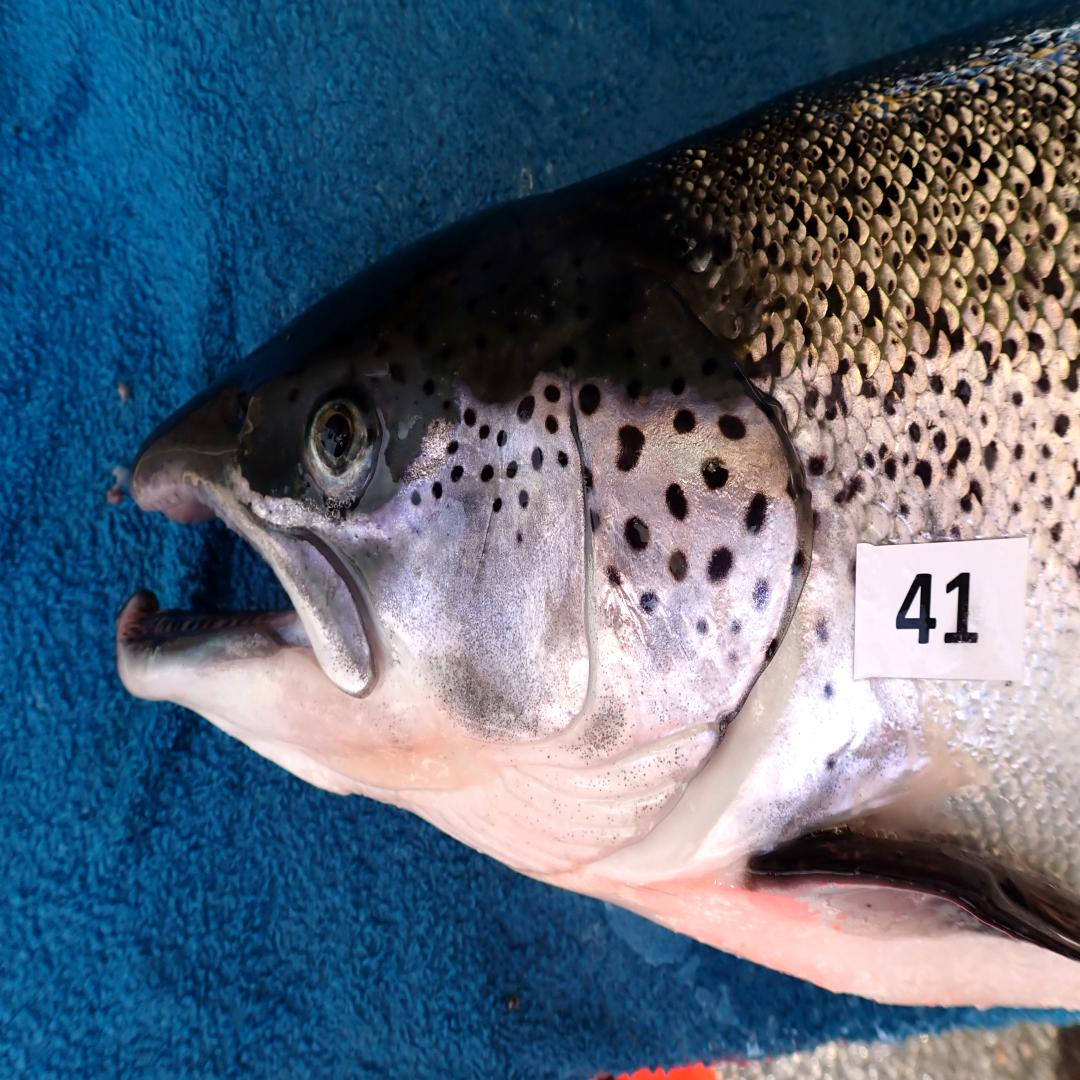roi: (367, 373, 802, 880)
